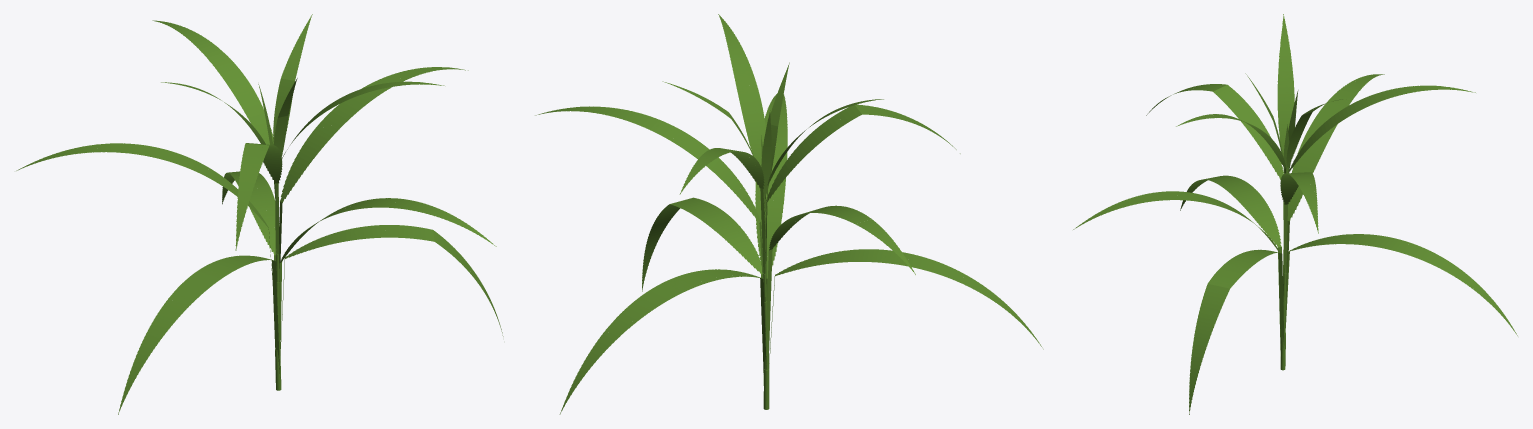
The model's file is maize_003_day_085.dae.
3 views of the same model, side by side, from view 1: azimuth 30°, elevation 25°; view 2: azimuth 150°, elevation 25°; view 3: azimuth 270°, elevation 25° (orthographic). The views are drawn at different scales.
Visible parts, largest first — view 1: node; view 2: node; view 3: node.
Part boxes in pixels (x1=…): node: x1=16, y1=14, x2=503, y2=414; node: x1=535, y1=14, x2=1043, y2=414; node: x1=1073, y1=14, x2=1517, y2=414.
Size of the model in its own units: 1.49 by 1.11 by 1.49.
1 material, 1 textured.
